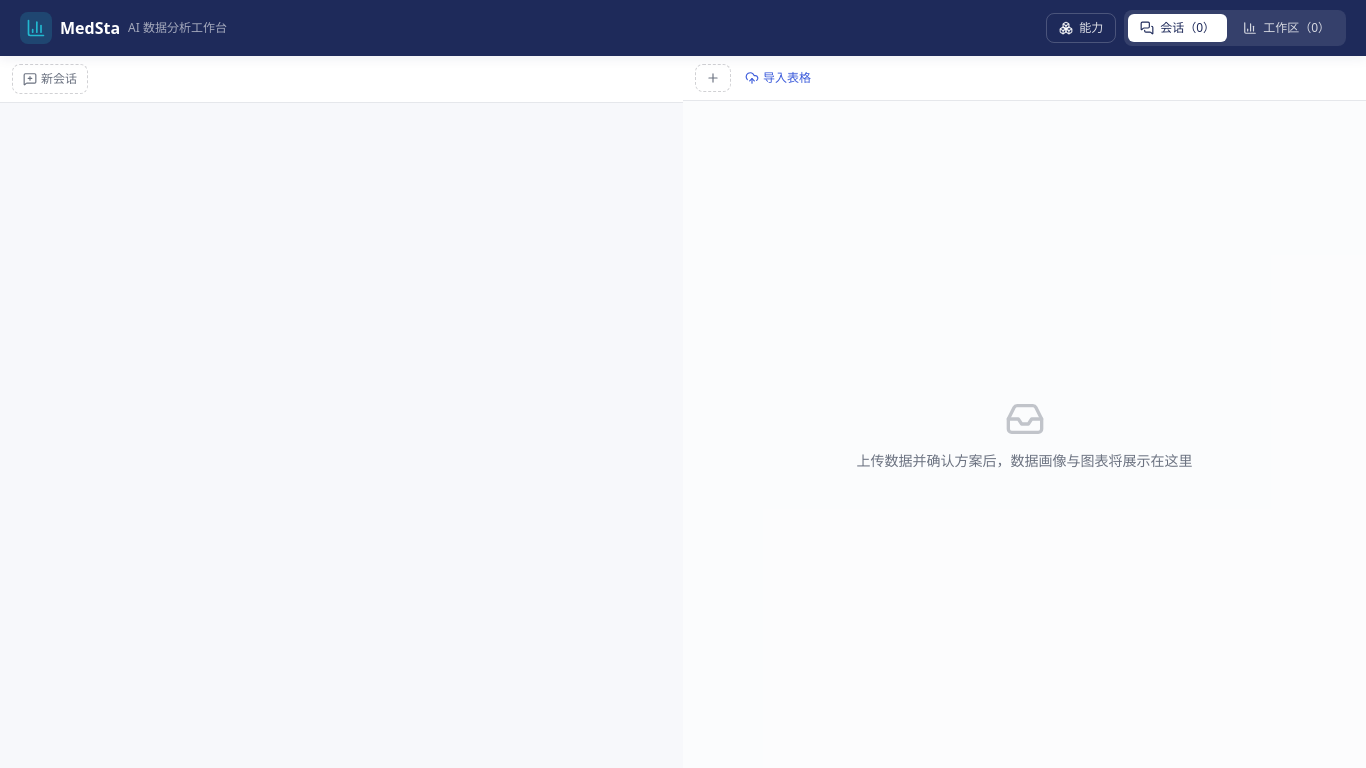
App 布局骨架 › 新建会话后出现会话 Tab 与绑定提示条
Click the button titled "新建会话空间". click: (50,79)
box: [12,64,88,94]
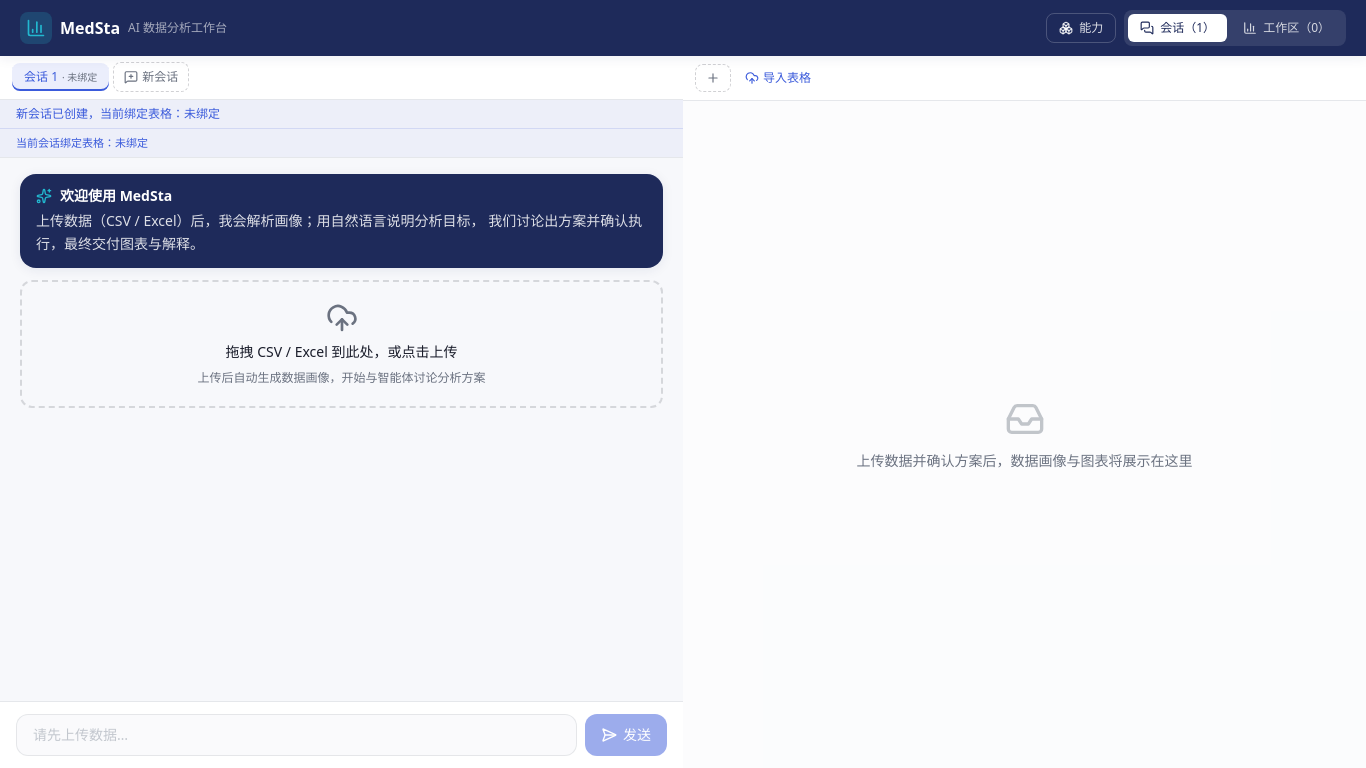
Result: the button "会话 1· 未绑定" is shown at [12,64,109,92]
Result: the text "未绑定" is shown at [115,135,148,150]
Result: the button "会话（1）" is shown at [1128,14,1227,42]
